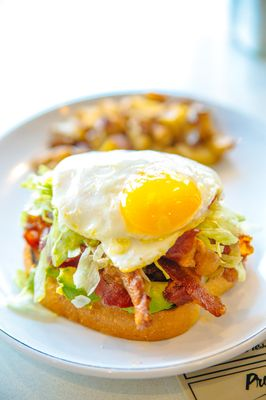soup: (24, 149, 251, 342)
